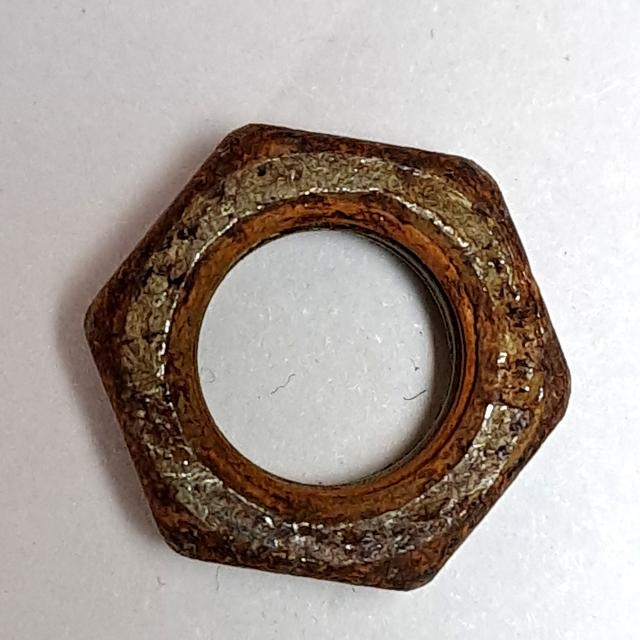Rust: (77, 113, 588, 606)
